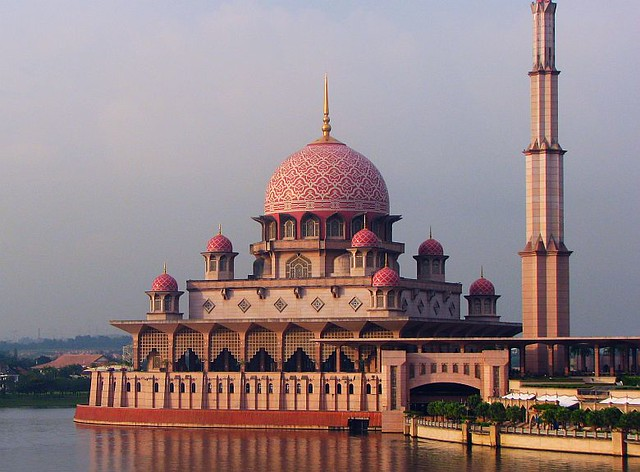Mosque: (118, 1, 573, 427)
